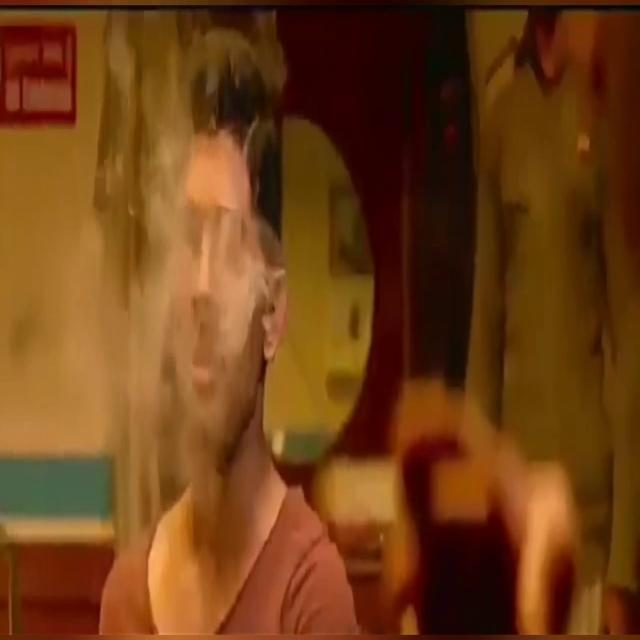smoking: (162, 161, 214, 408)
